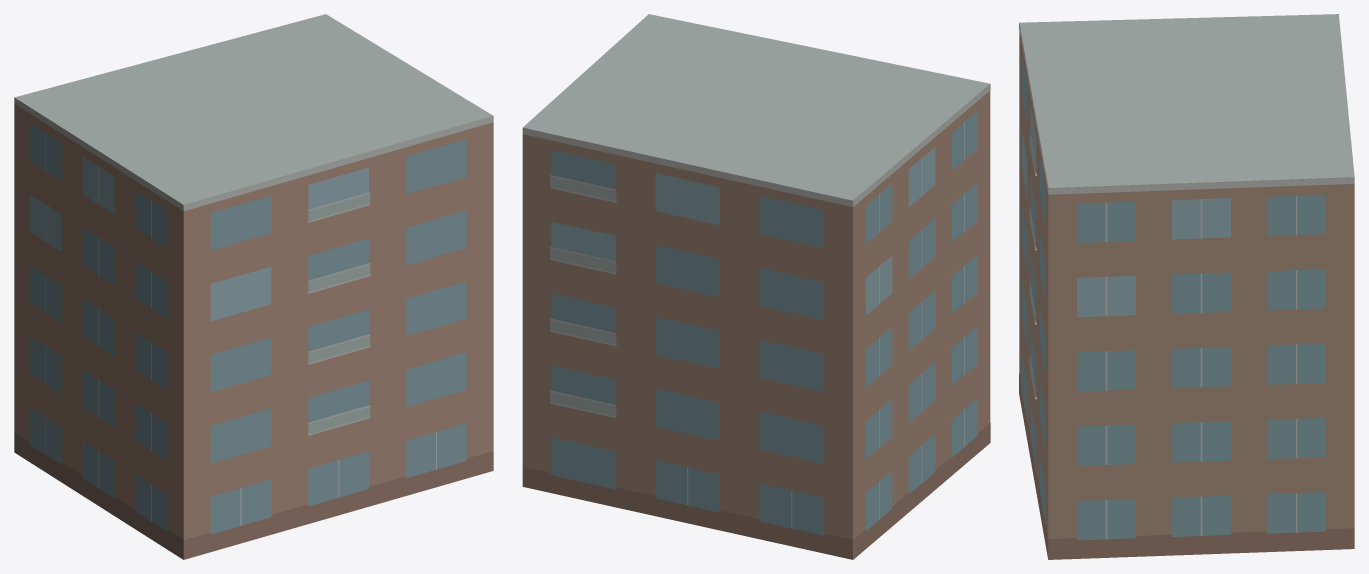
Rendered from survey-upis-32735132.glb.
3 renders of one model, left to right at view 1: azimuth 30°, elevation 25°; view 2: azimuth 150°, elevation 25°; view 3: azimuth 270°, elevation 25°, orthographic. The views are drawn at different scales.
Visible parts, largest first — view 1: survey-upis-32735132.tmp; view 2: survey-upis-32735132.tmp; view 3: survey-upis-32735132.tmp.
Part boxes in pixels (x1,y1,x2,y2): survey-upis-32735132.tmp: (14, 14, 493, 559); survey-upis-32735132.tmp: (522, 14, 990, 559); survey-upis-32735132.tmp: (1019, 14, 1354, 559).
Bounding box in the file's own units: 13.67 × 13.6 × 11.13.
